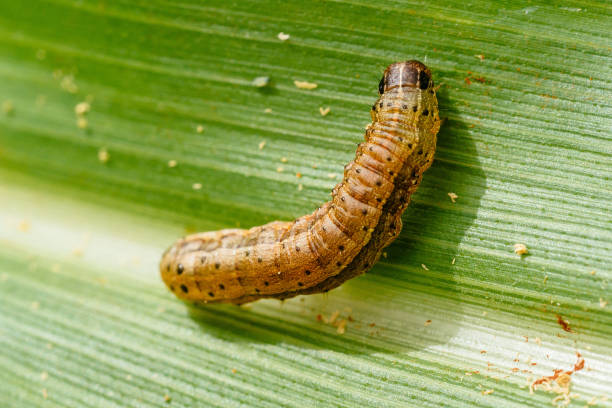Armyworm: (146, 51, 443, 339)
